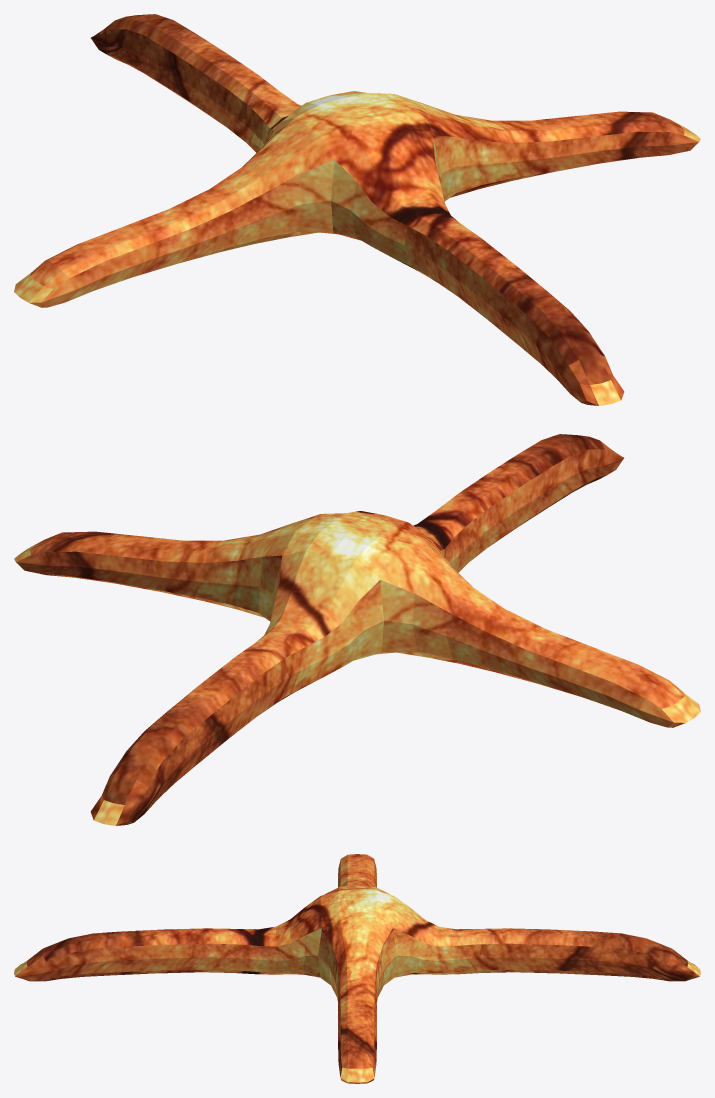
Rendered from sm_fleshsac_4.glb.
The picture shows the model from 3 angles, top to bottom: view 1: azimuth 30°, elevation 25°; view 2: azimuth 150°, elevation 25°; view 3: azimuth 270°, elevation 25°; orthographic projection. The views are drawn at different scales.
Parts seen in each view (by area): view 1: sm_fleshsac_4; view 2: sm_fleshsac_4; view 3: sm_fleshsac_4.
Part boxes in pixels (x1,y1,x2,y2): sm_fleshsac_4: (14,14,700,405); sm_fleshsac_4: (14,434,700,825); sm_fleshsac_4: (14,854,700,1083).
Size of the model in its own units: 24.26 by 4.09 by 31.58.
1 material, 1 textured.
